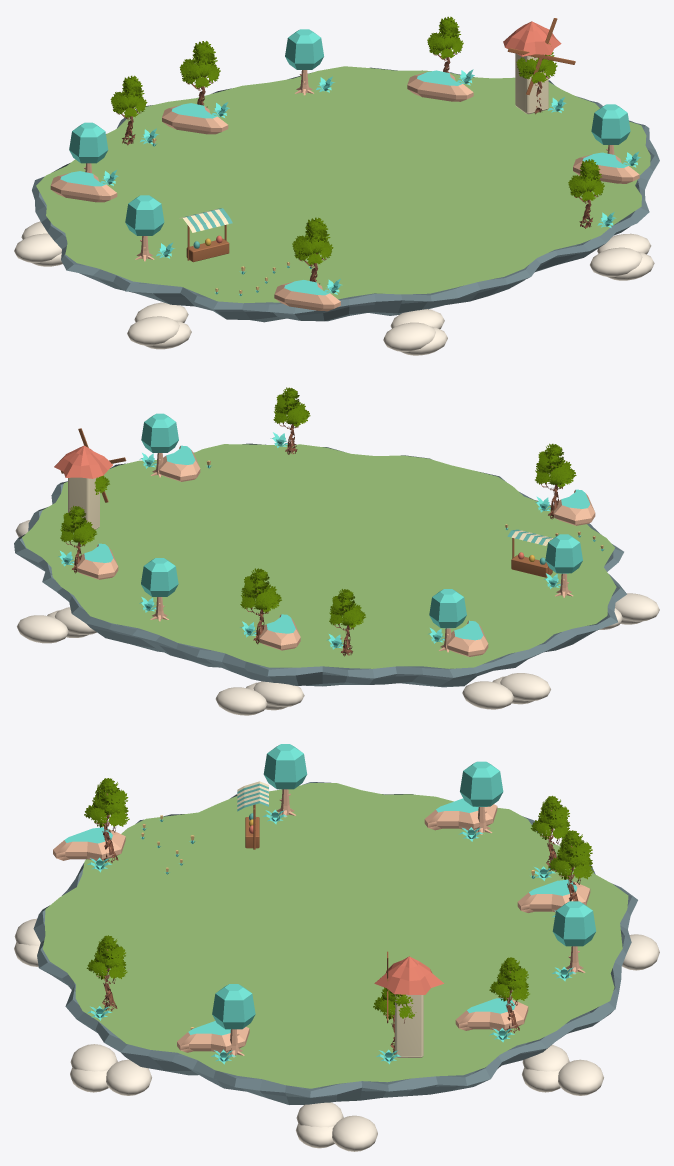
The model's file is meadow.glb.
The picture shows the model from 3 angles, top to bottom: view 1: azimuth 30°, elevation 25°; view 2: azimuth 150°, elevation 25°; view 3: azimuth 270°, elevation 25°; orthographic projection. The views are drawn at different scales.
Parts seen in each view (by area): view 1: Surface_meadow.001, Scenery_meadow.001; view 2: Surface_meadow.001, Scenery_meadow.001; view 3: Surface_meadow.001, Scenery_meadow.001.
Boxes of the visible parts, x1,y1,x2,y2 form: Surface_meadow.001: (32, 66, 659, 322); Scenery_meadow.001: (14, 16, 654, 355); Surface_meadow.001: (14, 443, 626, 687); Scenery_meadow.001: (15, 387, 659, 715); Surface_meadow.001: (33, 782, 637, 1104); Scenery_meadow.001: (14, 744, 659, 1151).
Size of the model in its own units: 75.01 by 19.53 by 62.58.
17 materials, 2 textured.
